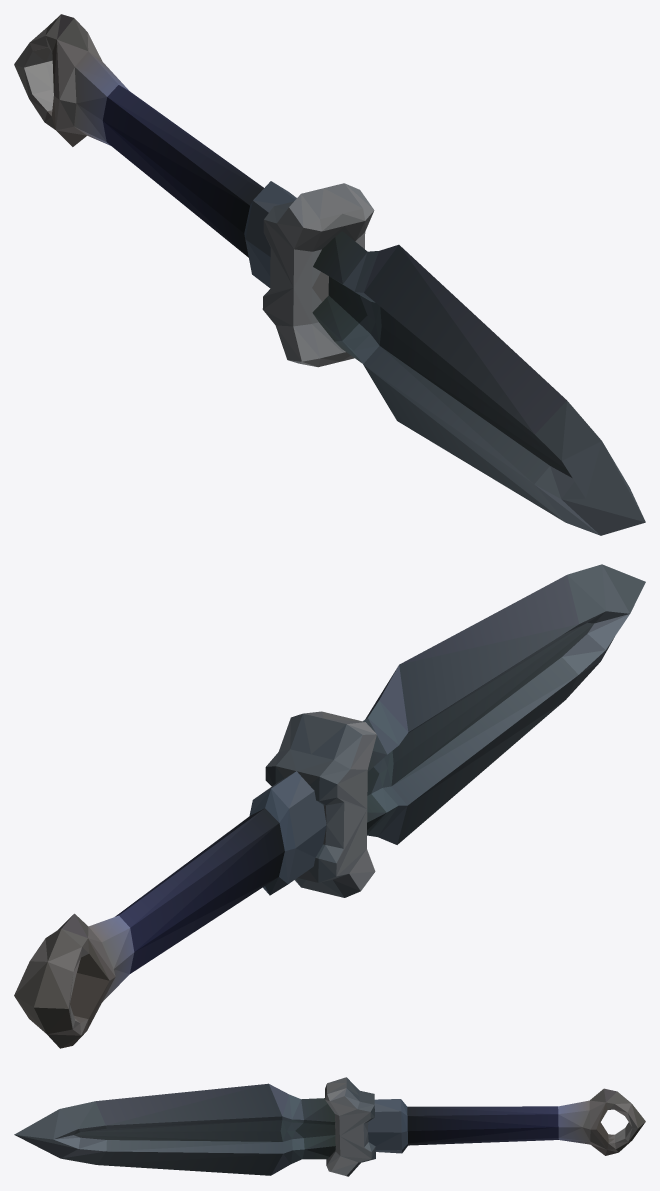
The model's file is weapon_sword_silver_1.fbx.
The picture shows the model from 3 angles, top to bottom: view 1: azimuth 30°, elevation 25°; view 2: azimuth 150°, elevation 25°; view 3: azimuth 270°, elevation 25°; orthographic projection. The views are drawn at different scales.
Parts seen in each view (by area): view 1: weapon_sword_silver_1; view 2: weapon_sword_silver_1; view 3: weapon_sword_silver_1.
Part boxes in pixels (x1,y1,x2,y2): weapon_sword_silver_1: (14,14,645,535); weapon_sword_silver_1: (14,564,645,1048); weapon_sword_silver_1: (14,1077,645,1176).
Size of the model in its own units: 0.1205 by 0.2895 by 1.79.
